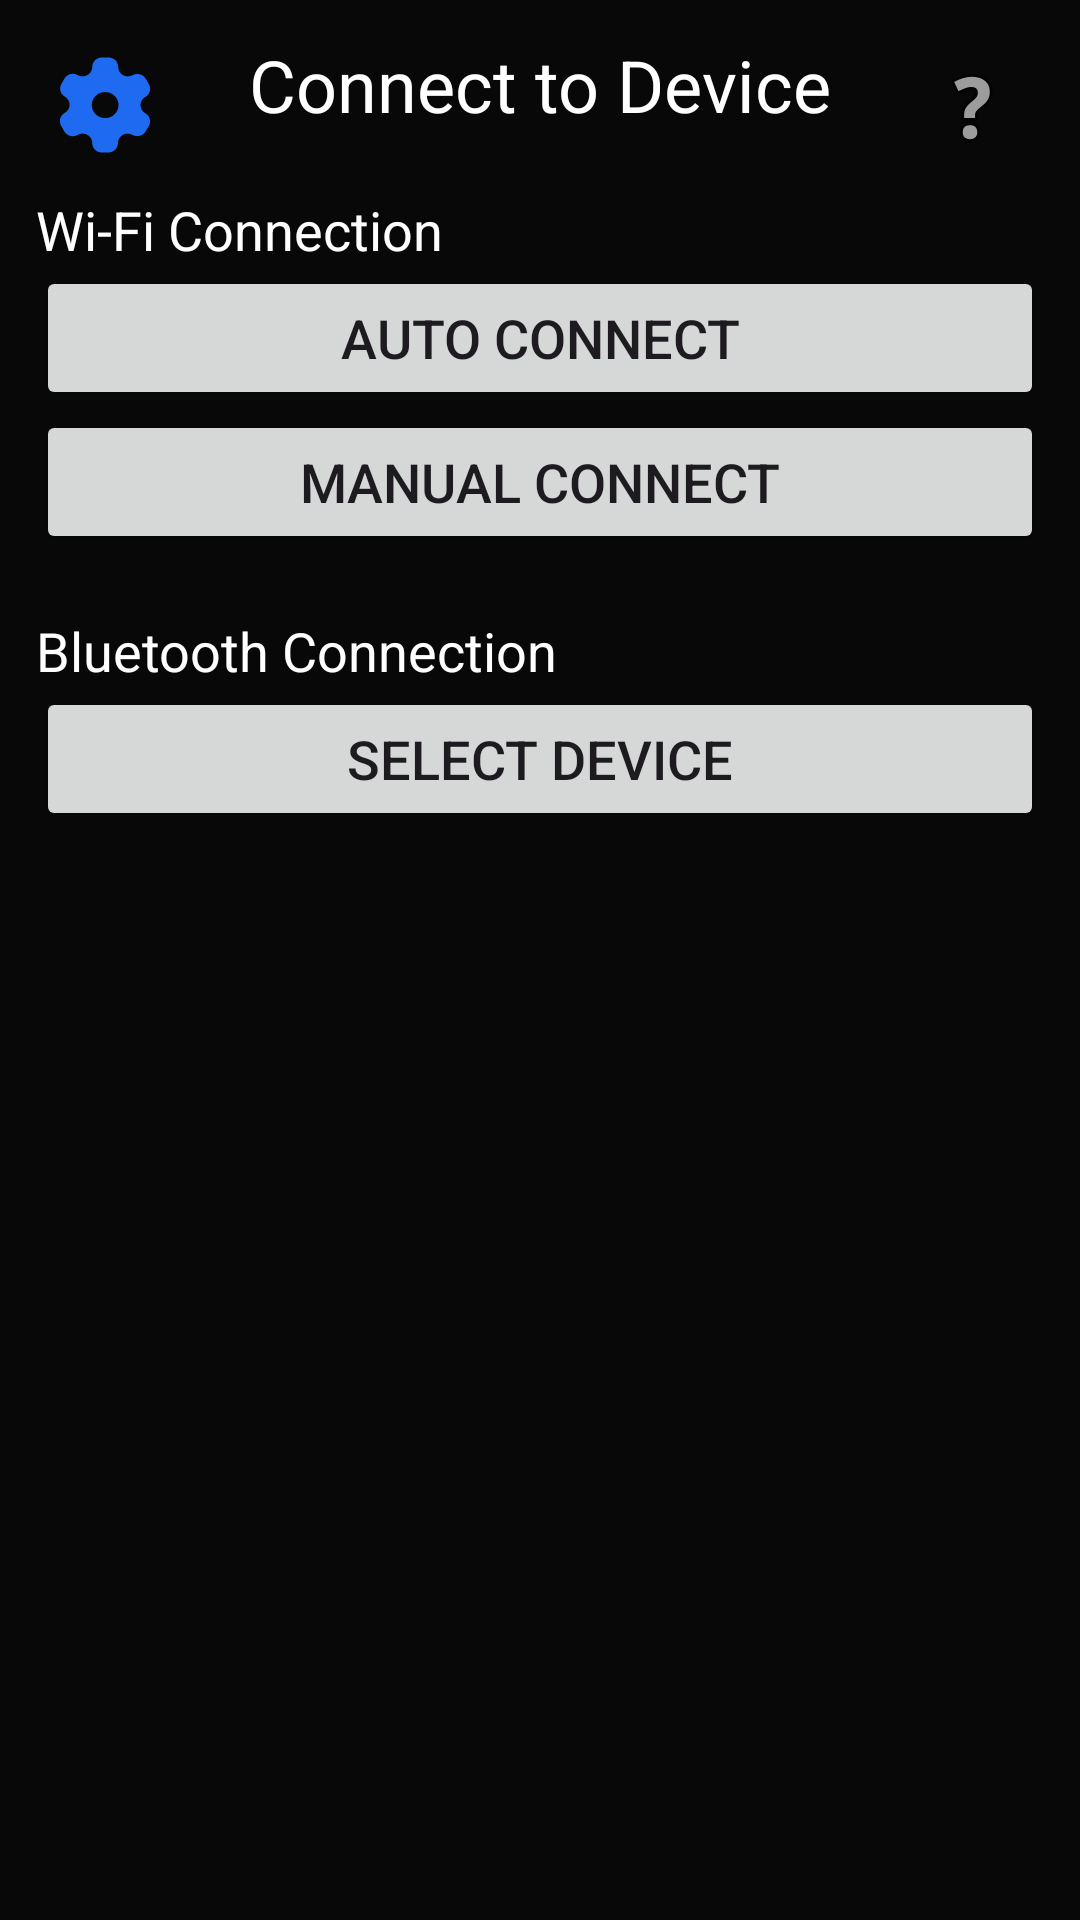

Point at icon controls on the screen. Image size 1080w x 1920h, points as point (x, y).
help: point (972, 107)
setting: point (105, 105)
